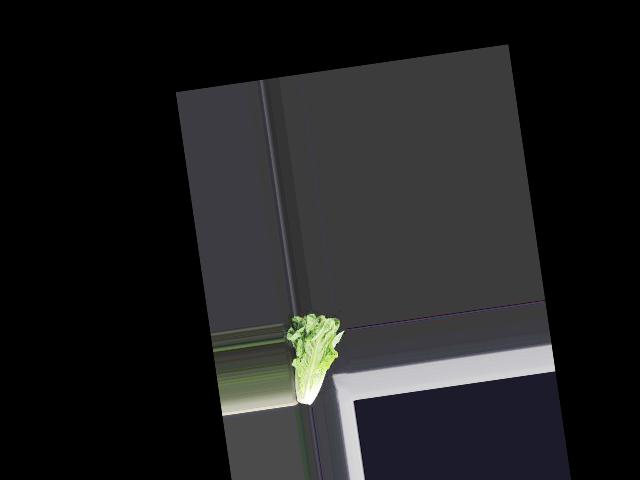lettuce: (283, 307, 353, 407)
